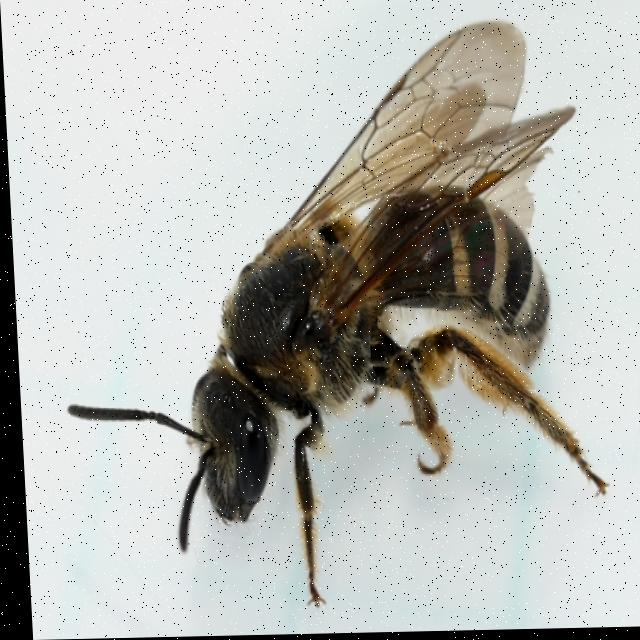Lasioglossum: (60, 6, 640, 601)
